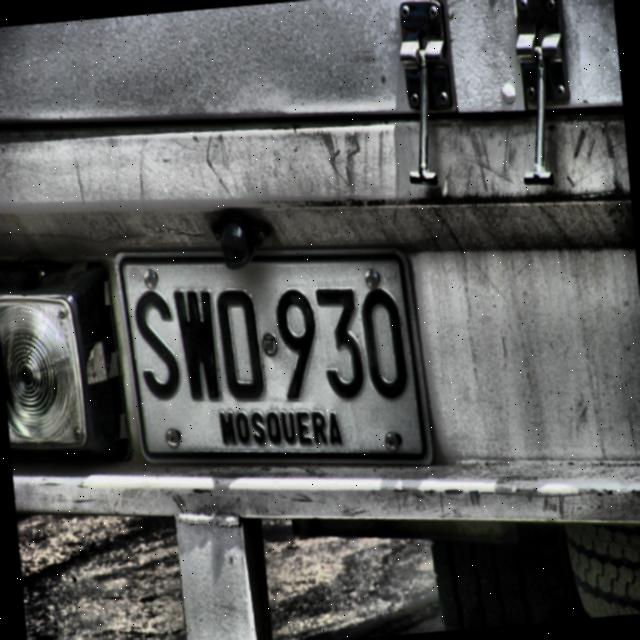0: (359, 286, 412, 403)
3: (314, 280, 368, 404)
9: (273, 284, 324, 402)
O: (214, 286, 268, 406)
S: (132, 288, 182, 404)
W: (173, 284, 224, 408)
